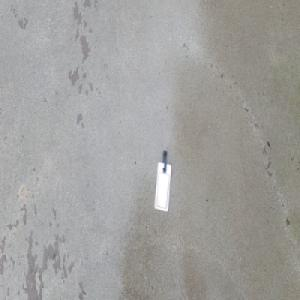LuggageTag: (154, 150, 172, 214)
